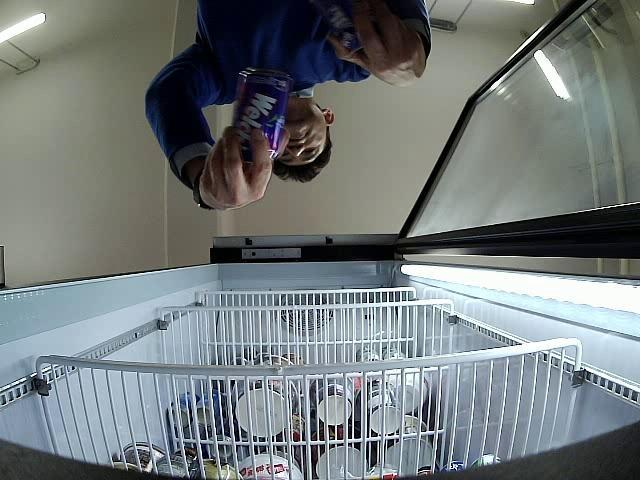14_welchsGrape: (232, 68, 290, 163), (319, 0, 363, 55)
